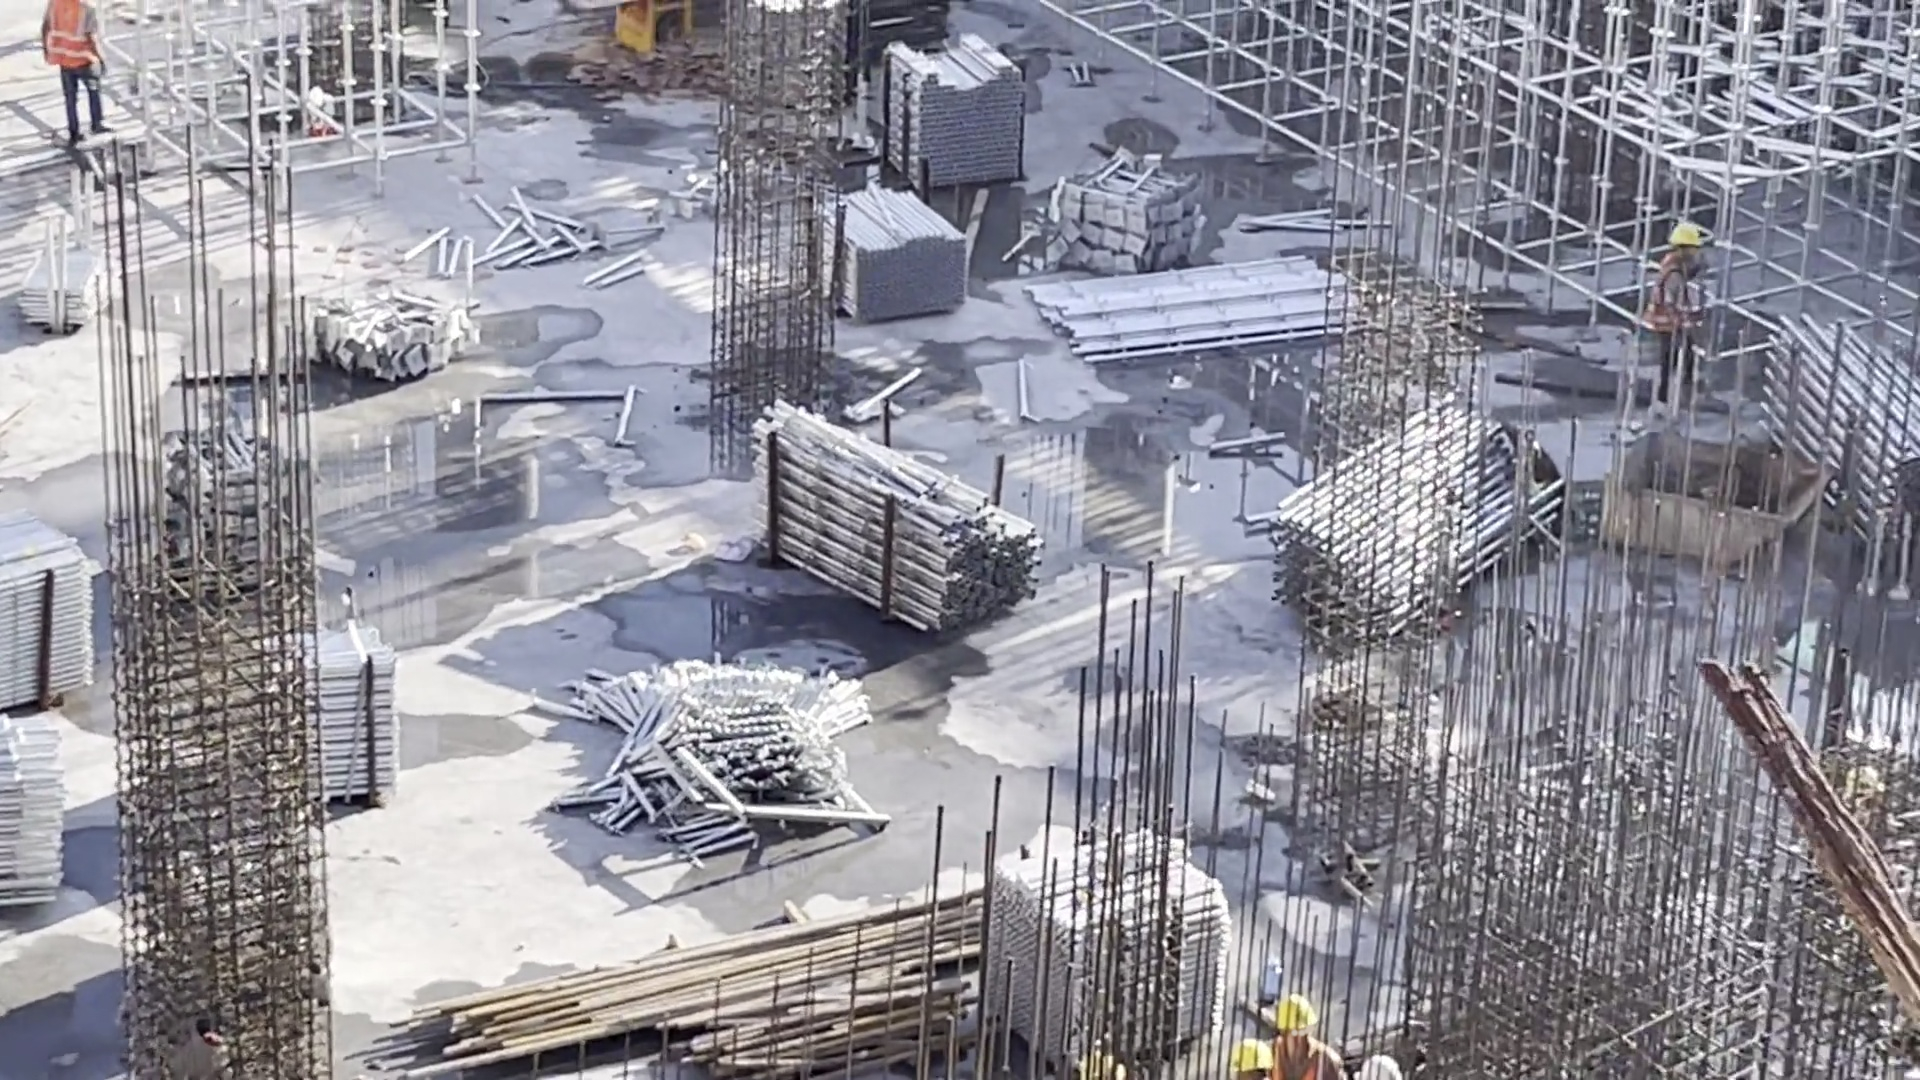cutter: (608, 1, 707, 53)
helmet: (1273, 992, 1320, 1038), (1238, 1037, 1284, 1075), (1674, 219, 1708, 252), (1358, 1056, 1395, 1080)
hopper: (1600, 449, 1804, 558)
person: (1634, 211, 1715, 395), (30, 1, 107, 150), (1261, 985, 1340, 1080)
scaffold: (997, 848, 1231, 1072), (597, 660, 864, 832), (793, 455, 1049, 629), (1301, 405, 1516, 608), (1031, 256, 1363, 356), (1788, 323, 1917, 579), (883, 65, 1043, 220), (263, 663, 395, 807), (1, 547, 109, 695), (825, 192, 955, 315), (1, 724, 60, 911), (25, 239, 96, 337)
vest: (39, 7, 105, 83), (1638, 275, 1692, 344), (1271, 1040, 1328, 1080)
